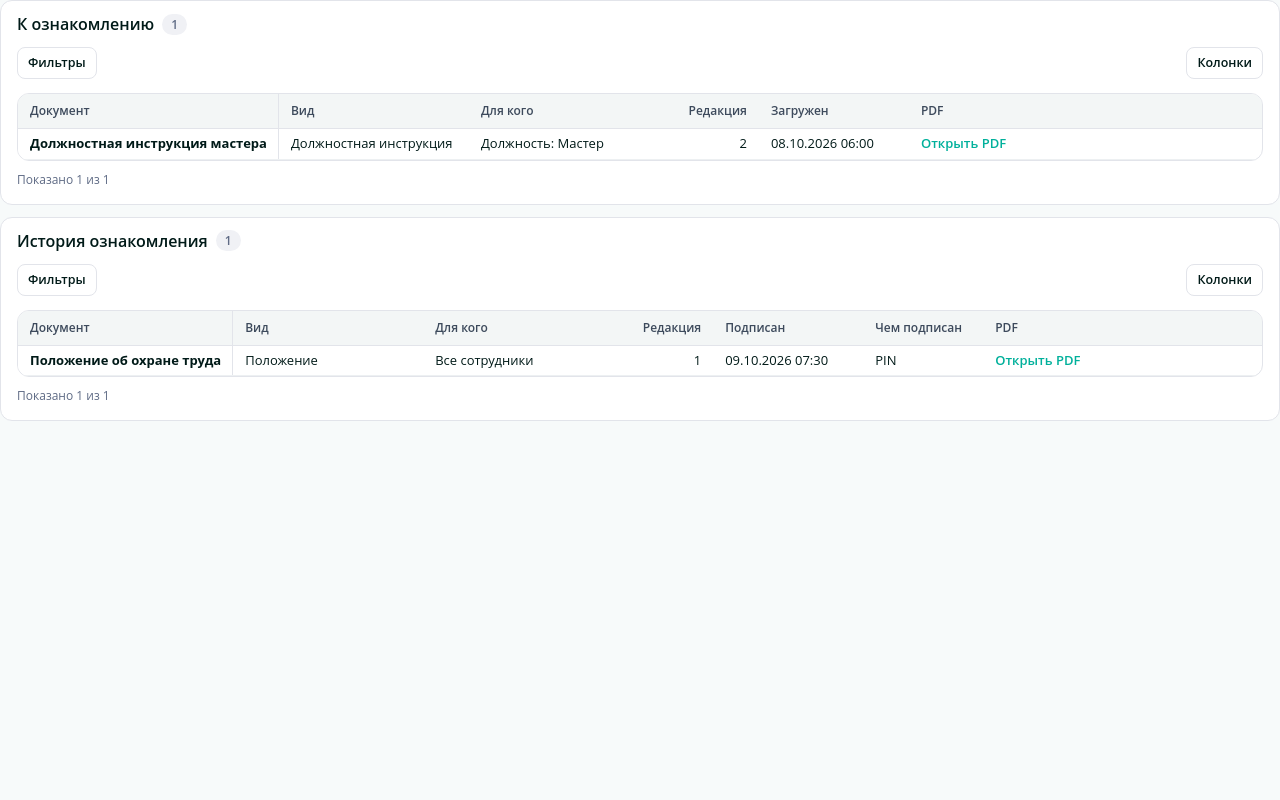
Scenario: signs «Ознакомлен» with the PIN and shows the document in the history
Step 1. Click the text "Должностная инструкция мастера" → (148, 144), box [30, 135, 267, 153]
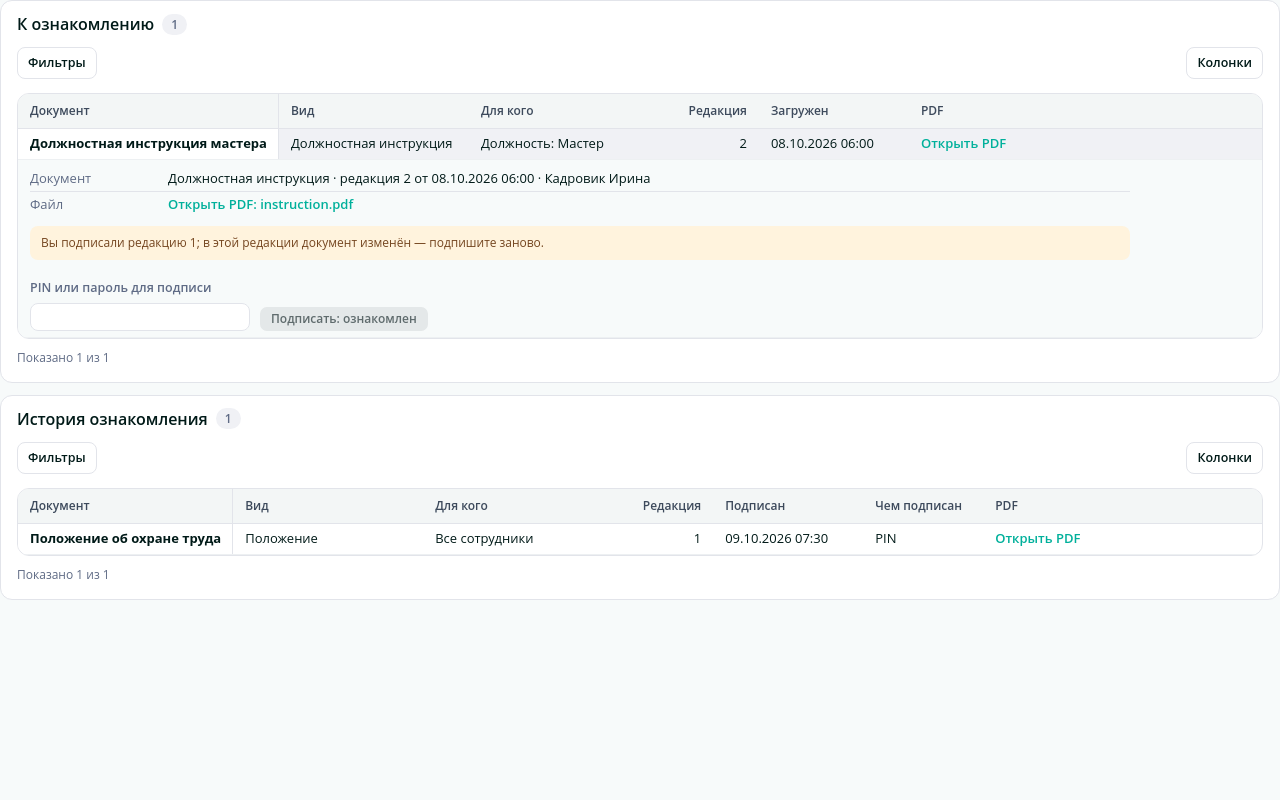
Check: the text "Вы подписали редакцию 1" is shown, box [30, 226, 1130, 260]
Check: the button "Подписать: ознакомлен" is disabled, box [260, 307, 428, 331]
Step 2. Type "482913" into the password field labelled "PIN или пароль для подписи" → (140, 317), box [30, 303, 250, 331]
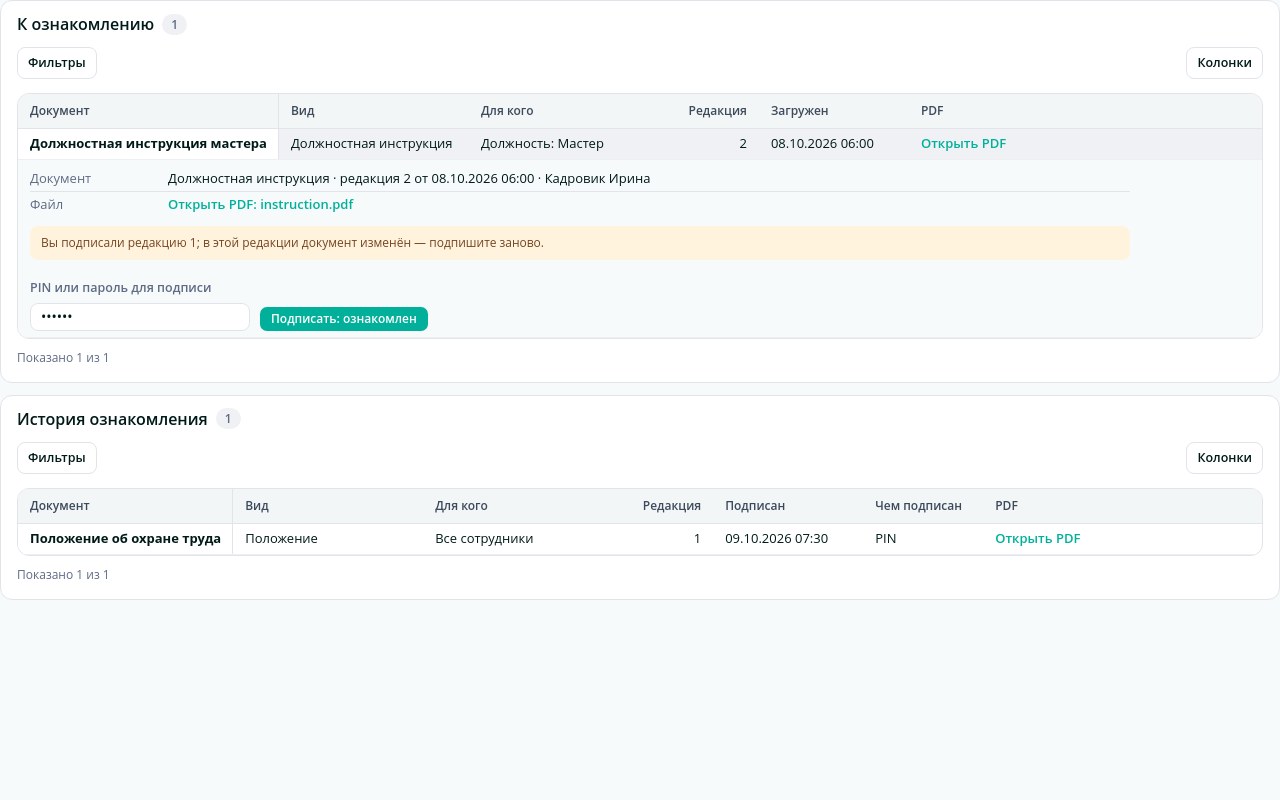
Step 3. Click the button "Подписать: ознакомлен" → (344, 319), box [260, 307, 428, 331]
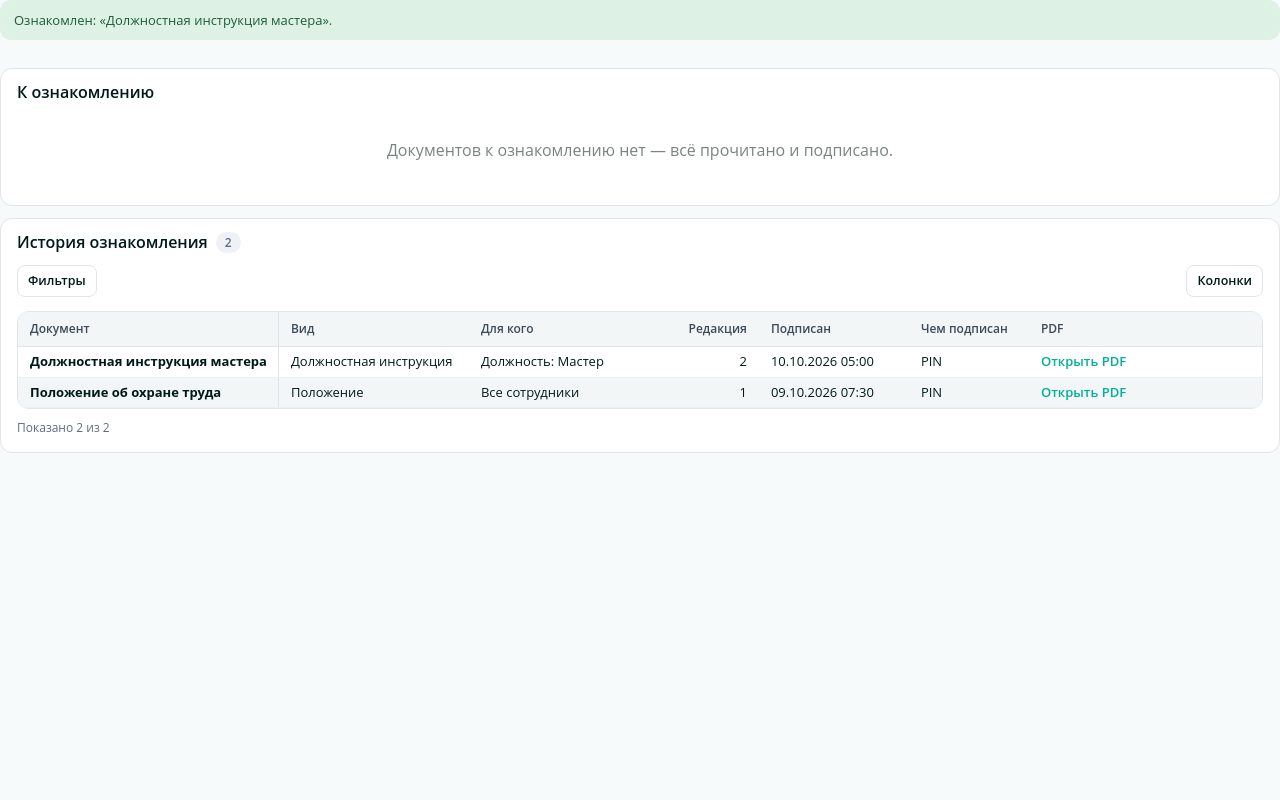
Check: the text "Должностная инструкция мастера" is shown, box [30, 353, 267, 371]
Check: the text "Ознакомлен: «Должностная инструкция мастера»." is shown, box [0, 0, 1279, 40]
Check: the text "Документов к ознакомлению нет — всё прочитано и подписано." is shown, box [387, 139, 893, 161]
